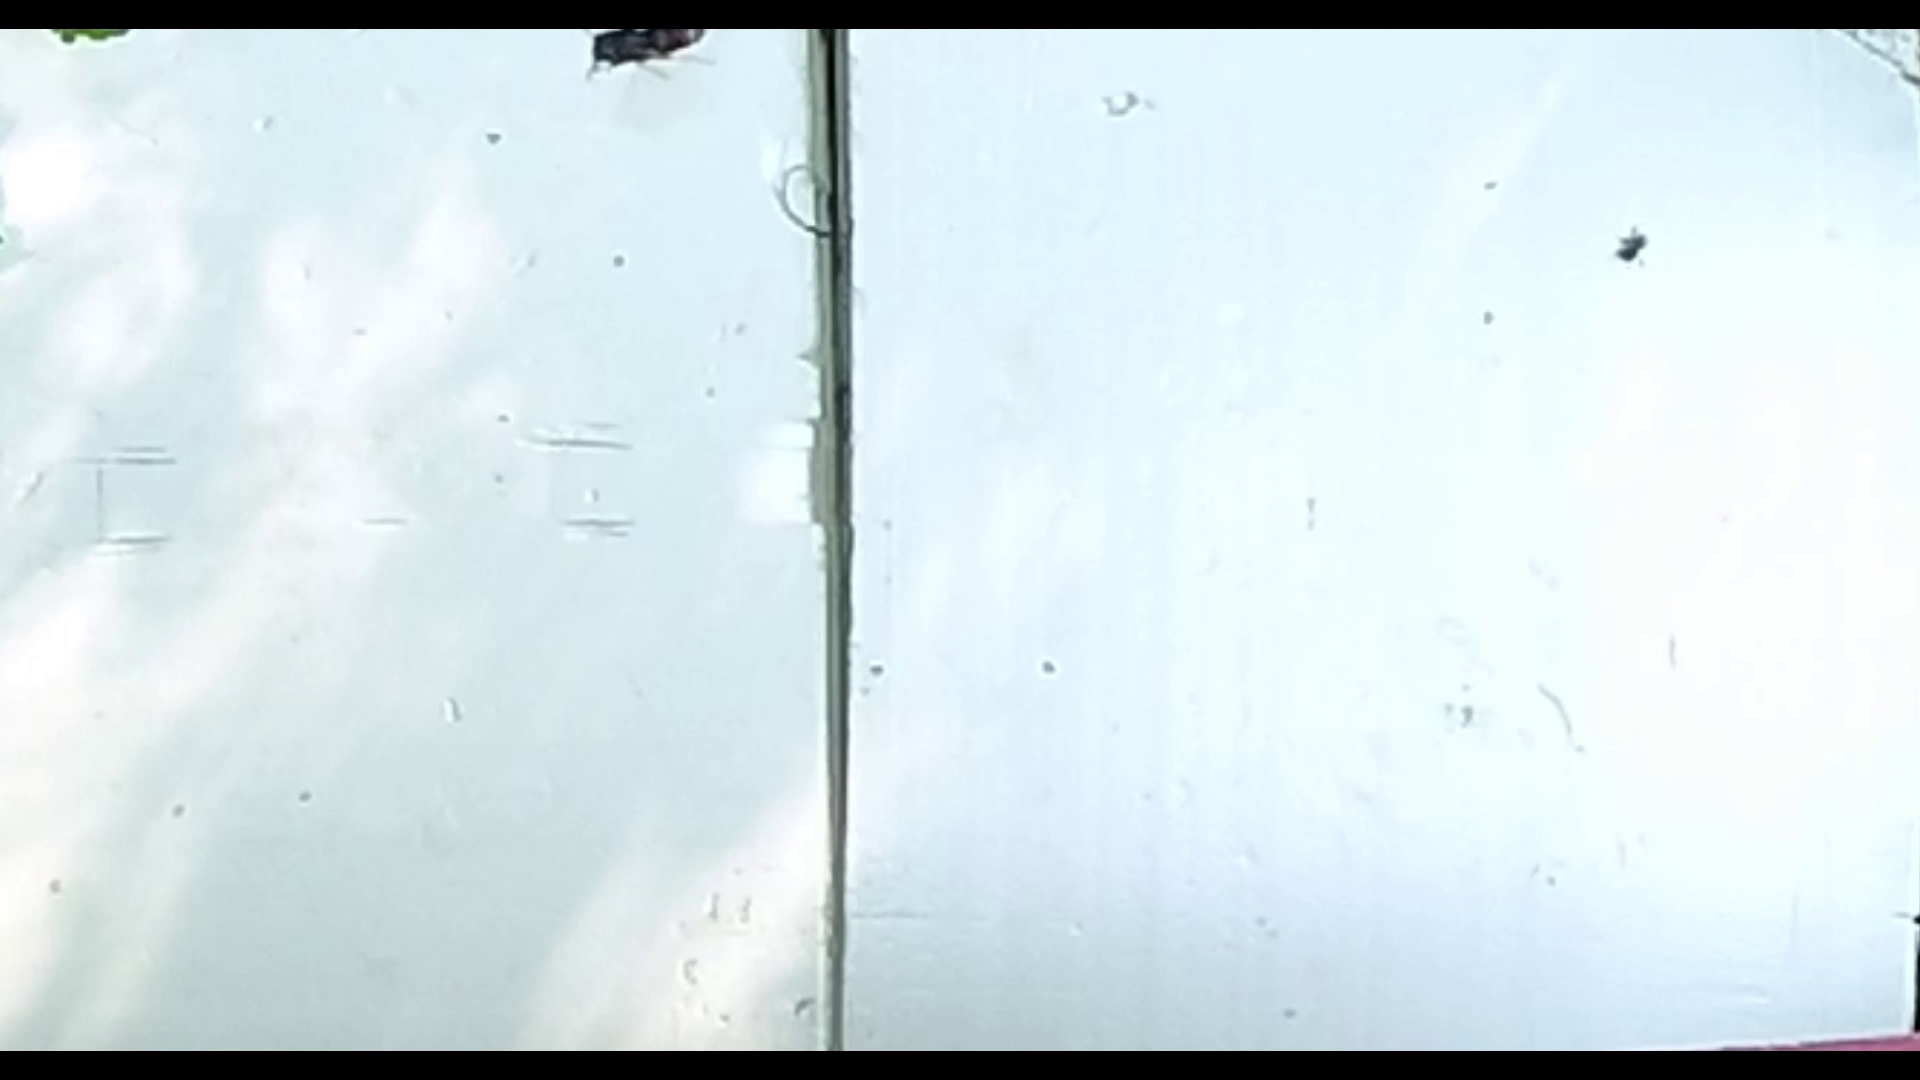Asian_hornets: (568, 30, 727, 105)
